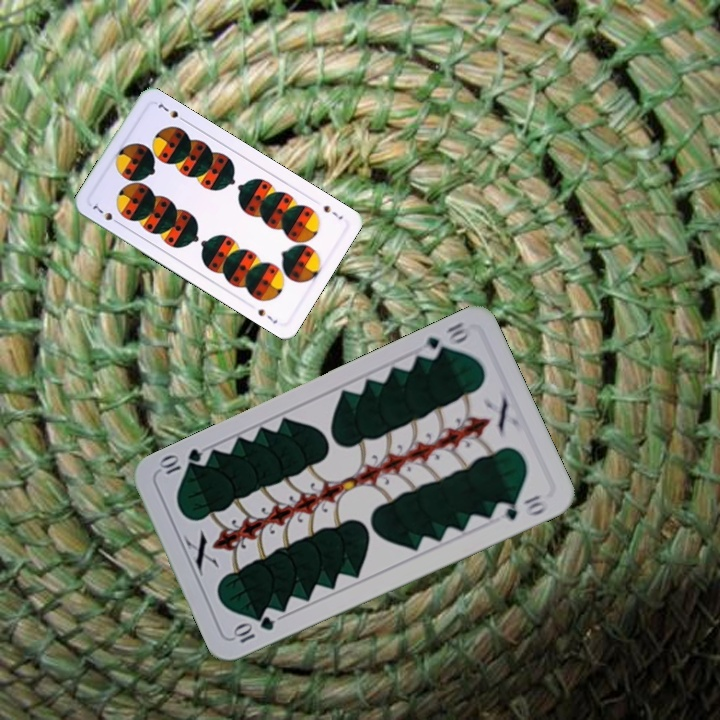G10: (420, 317, 474, 362), (229, 612, 277, 646)
S7: (88, 199, 123, 227), (319, 201, 346, 222)
